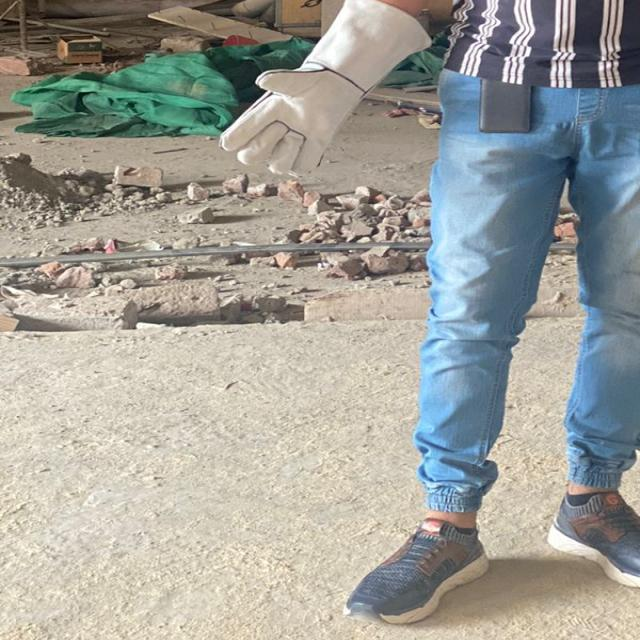Boot: (341, 512, 498, 626), (545, 481, 640, 594)
Glove: (211, 0, 434, 185)
